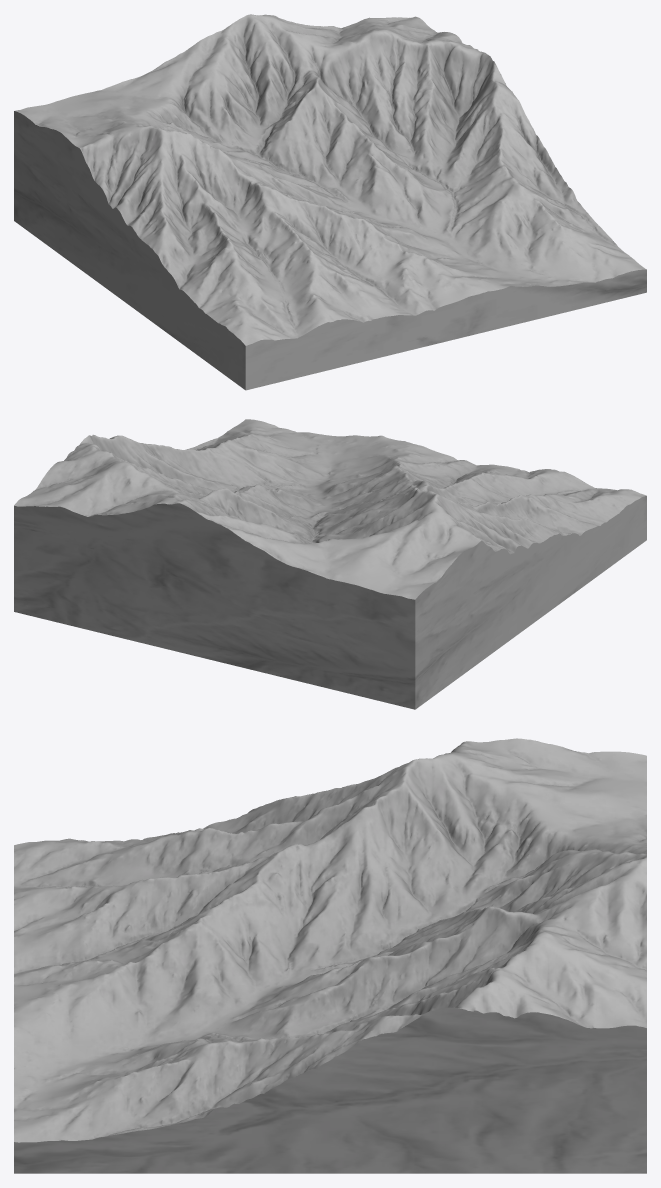
File: NewTerreain_006.glb
3 views of the same model, one above another, from view 1: azimuth 30°, elevation 25°; view 2: azimuth 150°, elevation 25°; view 3: azimuth 270°, elevation 25° (orthographic). The views are drawn at different scales.
Visible parts, largest first — view 1: Land; view 2: Land; view 3: Land.
Part boxes in pixels (box(x1,y1,x2,y2)): Land: box(14, 14, 646, 390); Land: box(14, 419, 646, 709); Land: box(14, 738, 646, 1173).
Bounding box in the file's own units: 6 × 2.13 × 6.
Materials: 1 (1 with a texture image).
